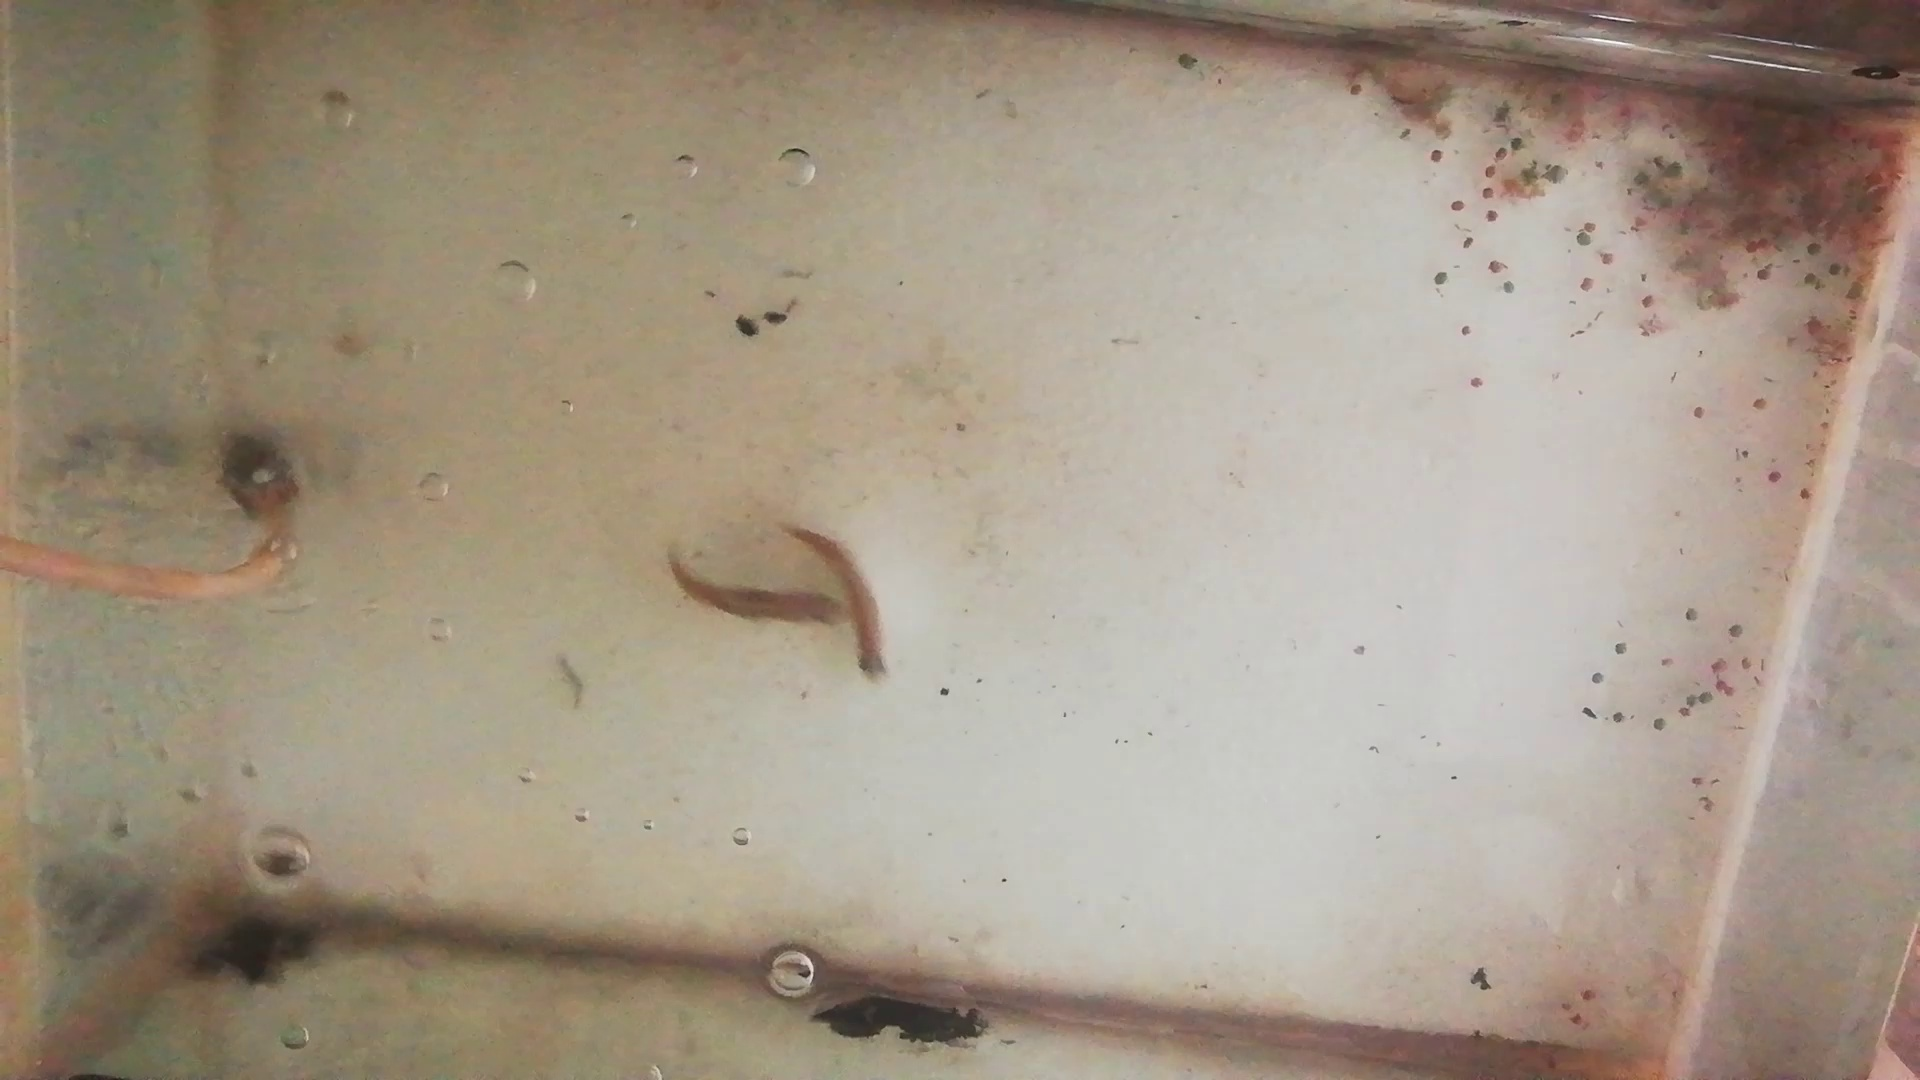fish: (779, 522, 890, 684), (666, 547, 852, 629)
